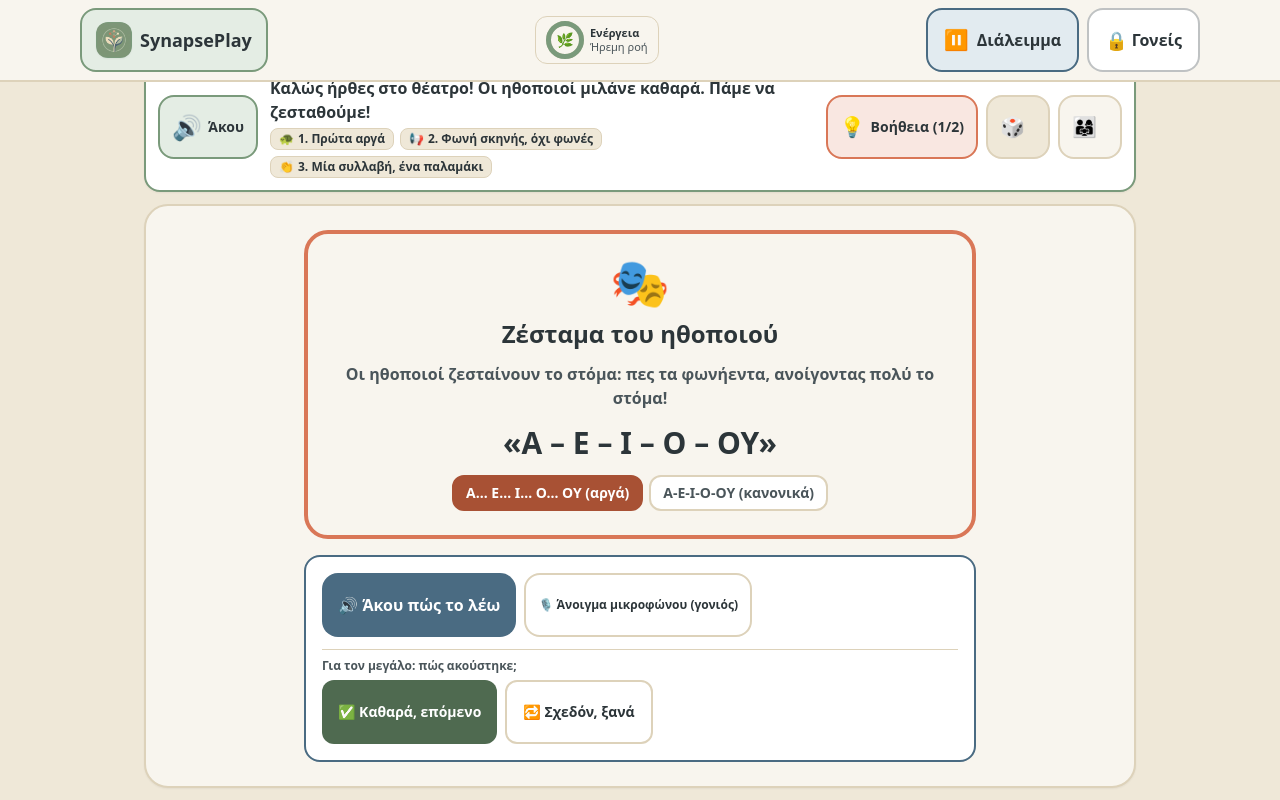
Τα παιχνίδια λόγου στην πράξη (χωρίς μικρόφωνο) › Θέατρο της Φωνής: τα βήματα του γύρου προχωρούν με «καθαρά»
This screenshot has width=1280, height=800.
(page scrolled)
Check: the element with test id "voice-theater-steps" shows "Α… Ε… Ι", box [466,483,629,502]
Click the button with test id "voice-rate-clear-btn": (410, 712) [322,680,497,744]
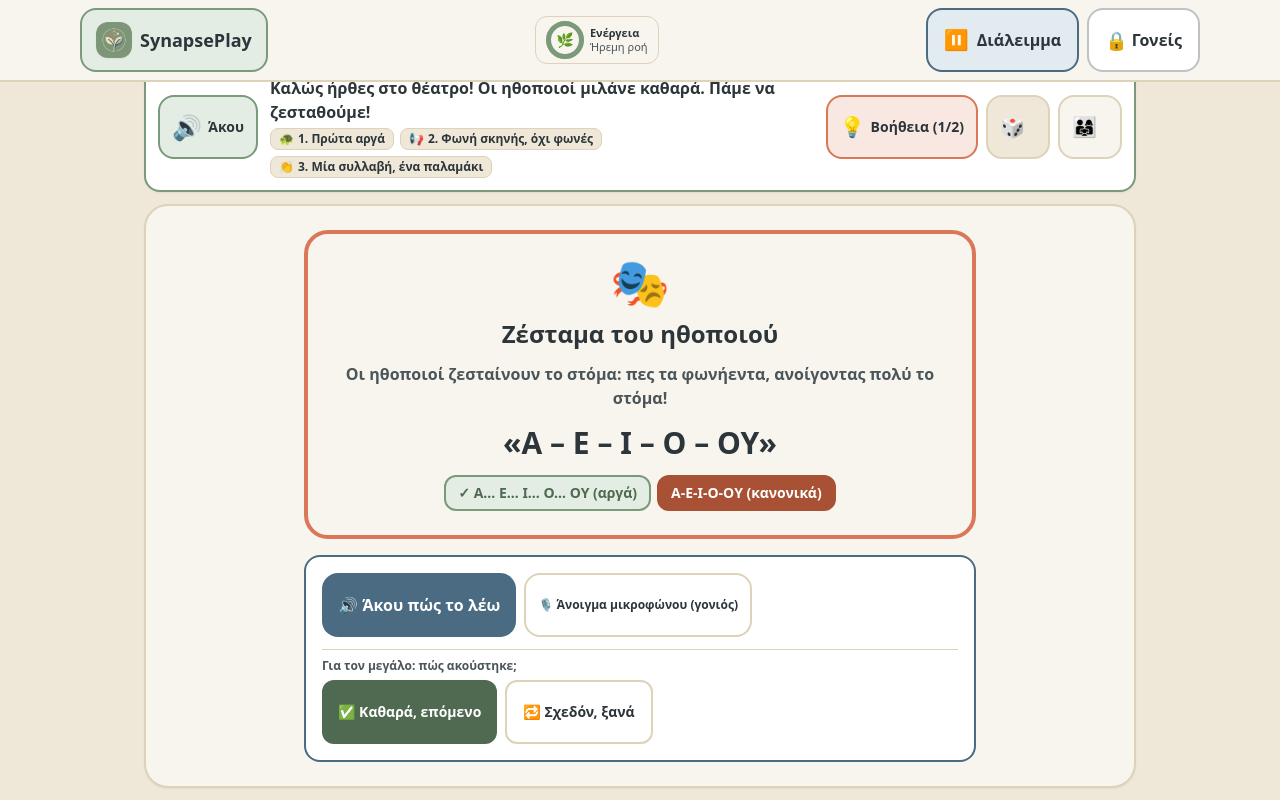
Check: the element with test id "voice-theater-steps" shows "✓", box [458,483,474,502]
